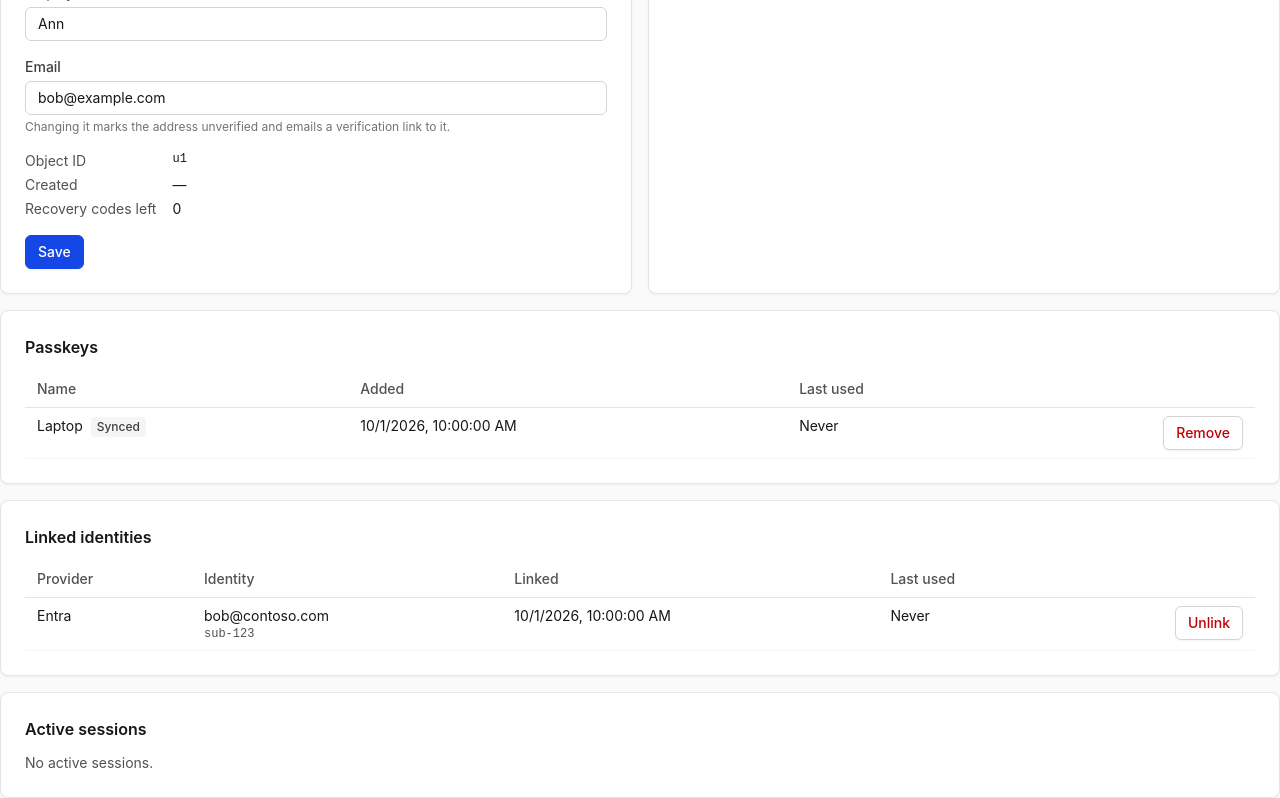
UserDetail linked identities › shows the server's 409 when it is the last sign-in method
(page scrolled)
Click the button "Unlink": (1209, 623) [1175,606,1243,640]
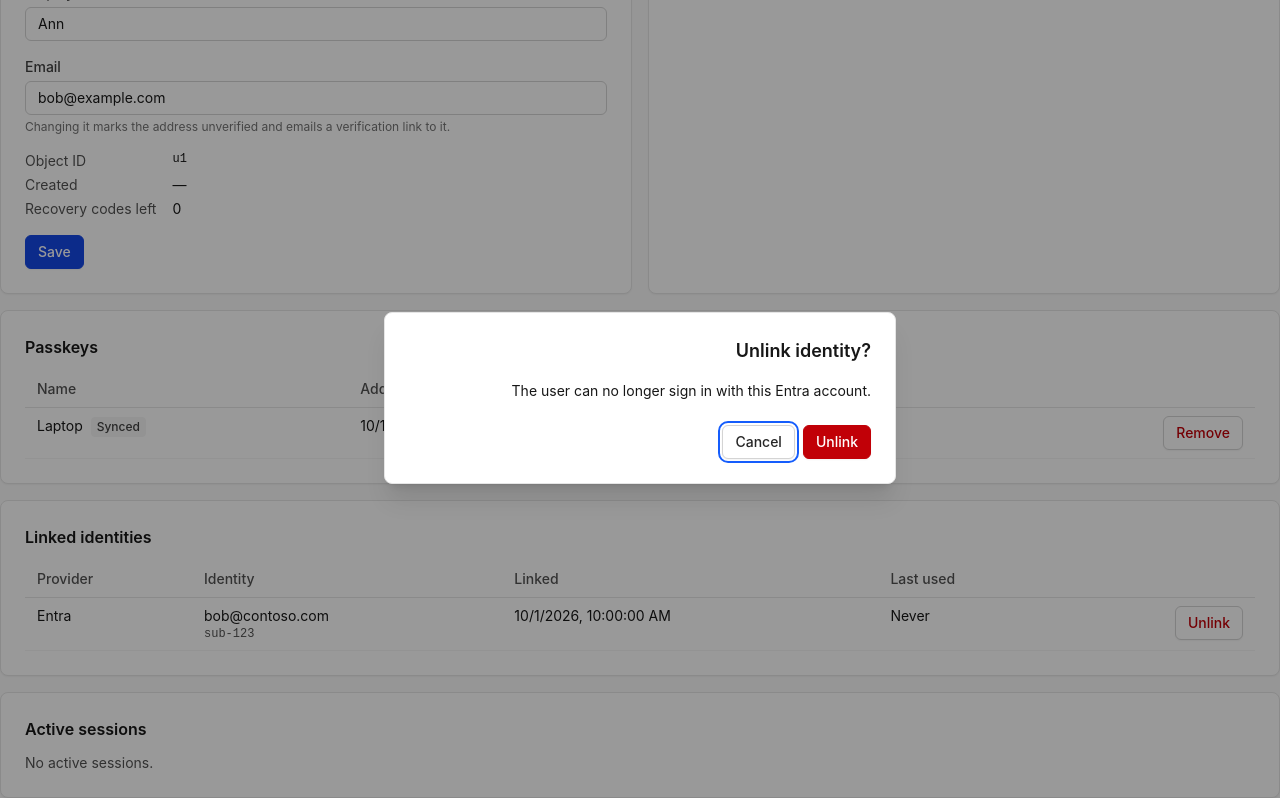
Click the button "Unlink" below "Unlink identity?": (837, 442) [803,425,871,459]
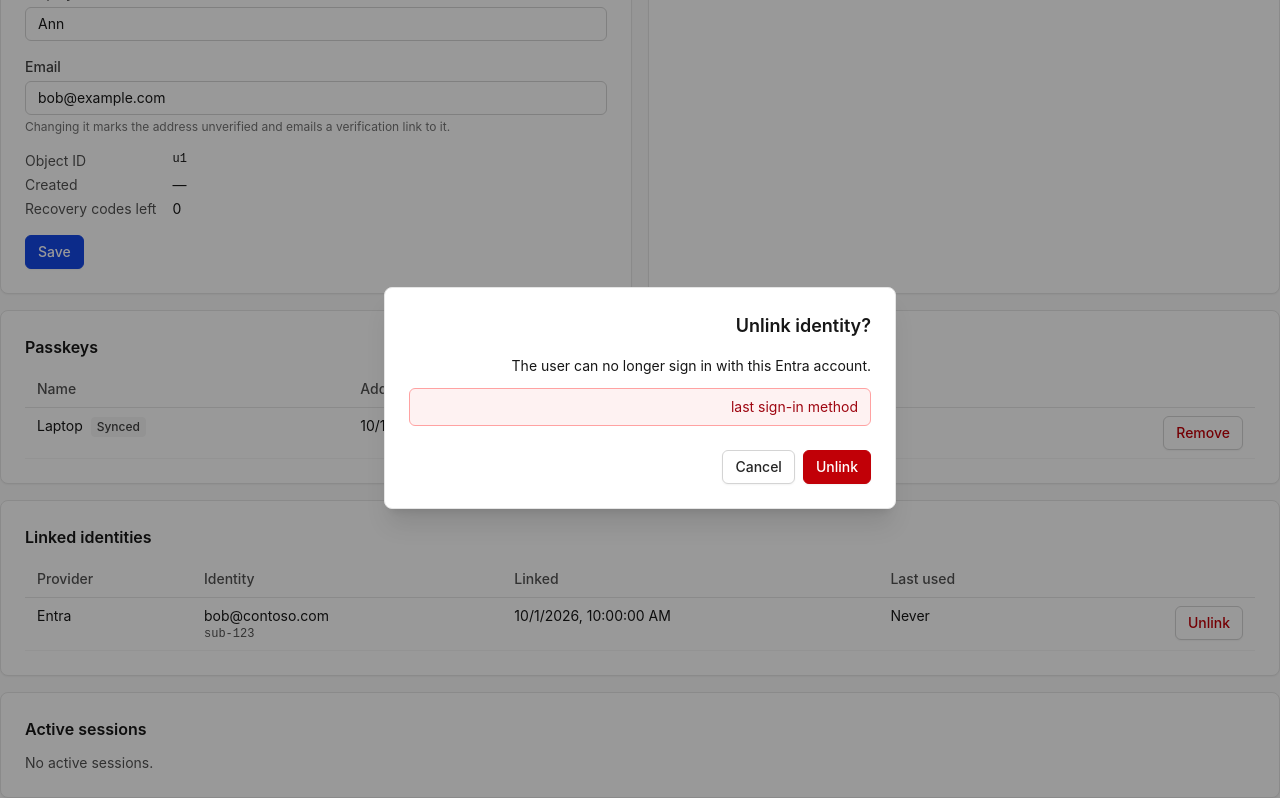
Result: the message "last sign-in method" is shown at [409,388,871,426]
